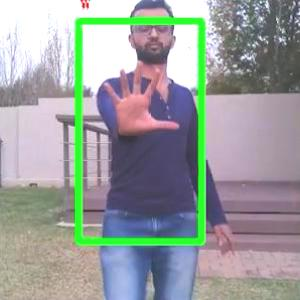follow_hand: (101, 52, 183, 142)
